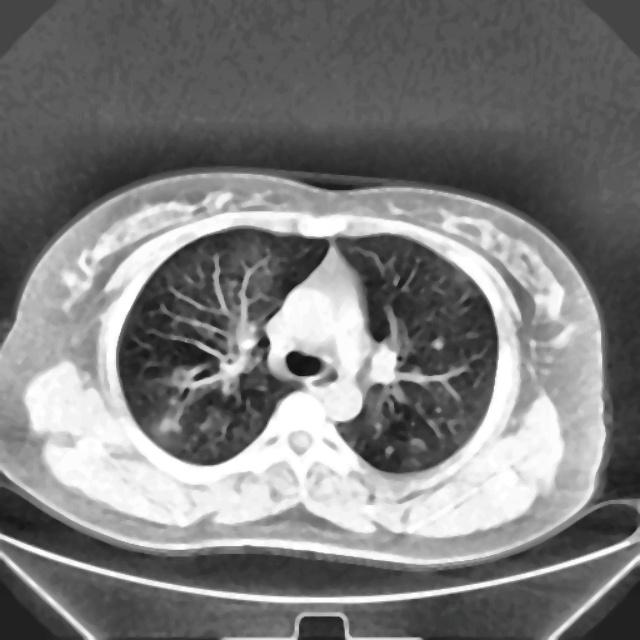covid: (1, 166, 609, 567)
